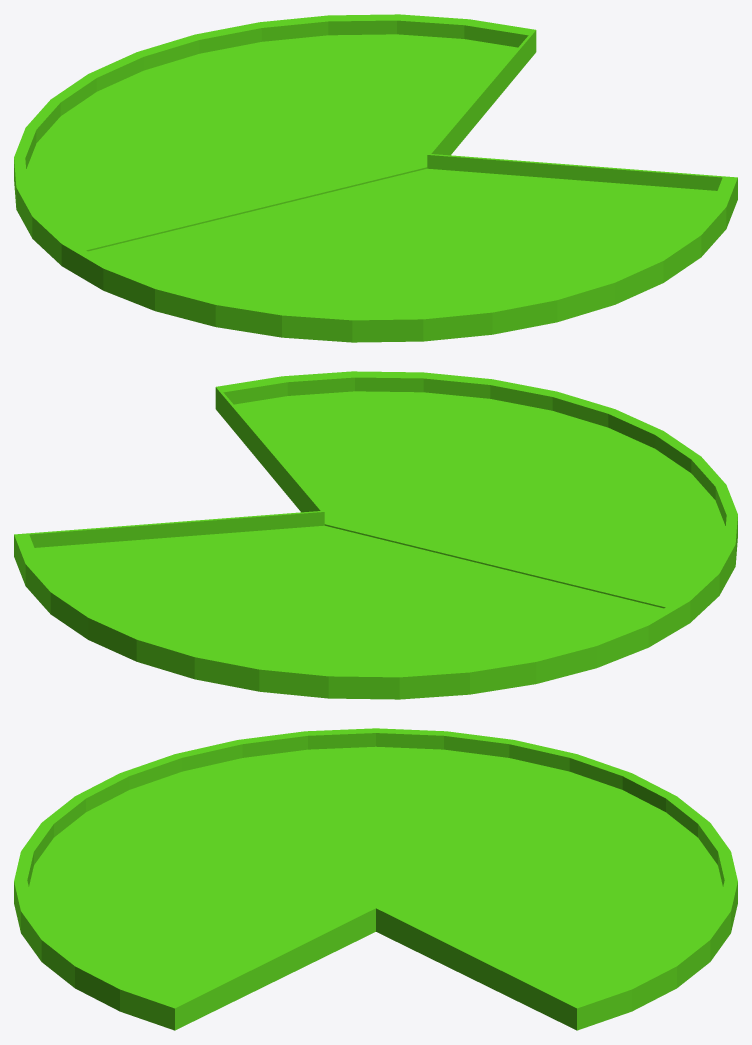
The model's file is nenufar1.fbx.
3 views of the same model, one above another, from view 1: azimuth 30°, elevation 25°; view 2: azimuth 150°, elevation 25°; view 3: azimuth 270°, elevation 25° (orthographic).
Parts seen in each view (by area): view 1: Cylinder; view 2: Cylinder; view 3: Cylinder.
Boxes of the visible parts, left/top/right/bottom form: Cylinder: left=14, top=14, right=737, bottom=342; Cylinder: left=14, top=371, right=737, bottom=699; Cylinder: left=14, top=728, right=737, bottom=1030.
Size of the model in its own units: 536 by 19.73 by 585.
